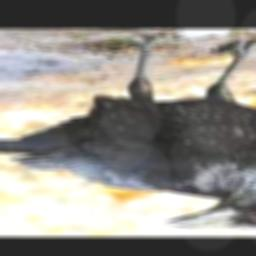Crow: (0, 33, 256, 229)
